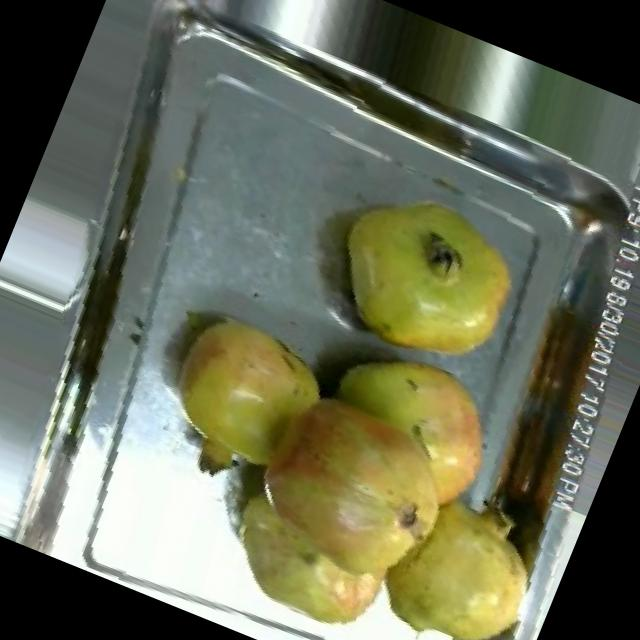fruit: (190, 347, 486, 640), (123, 282, 364, 525), (300, 160, 549, 392), (349, 458, 572, 640)
